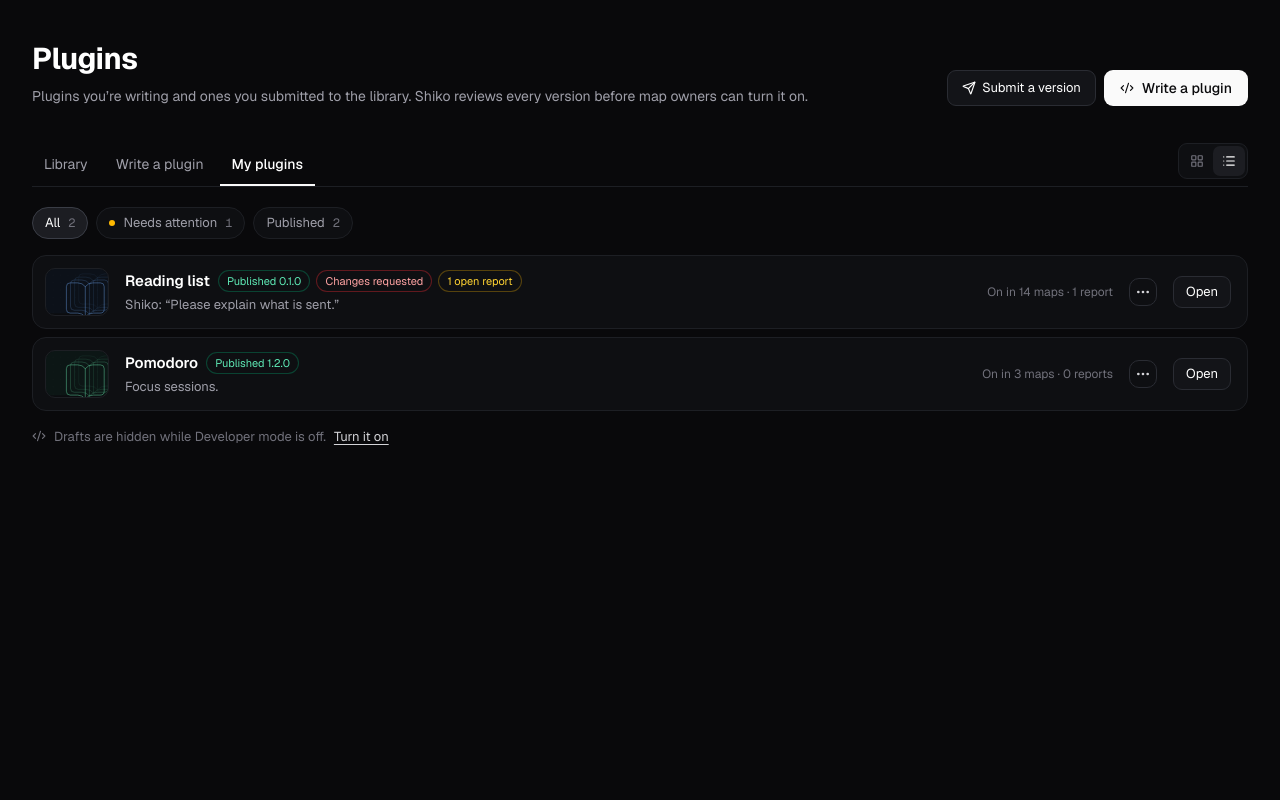
it: MyPluginsContent › opens every version with its review messages in a side sheet
Click the button "Open" next to "On in 14 maps · 1 report": (1202, 292) [1173,276,1231,308]
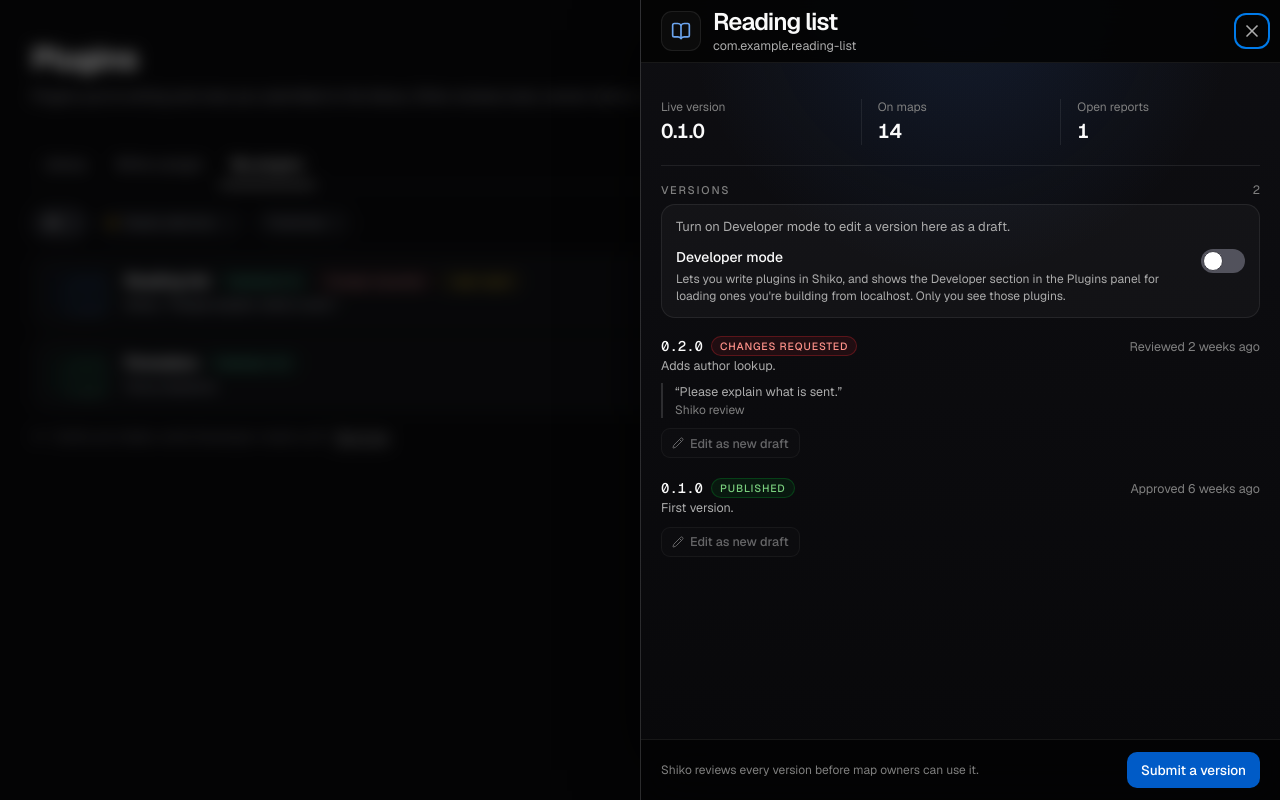
Now the text "Live version" is shown, box [661,99,726,115]
Now the text "0.1.0" is shown 2 times, box [661,118,704,144]; [661,479,703,497]
Now the text "0.2.0" is shown, box [661,337,703,355]
